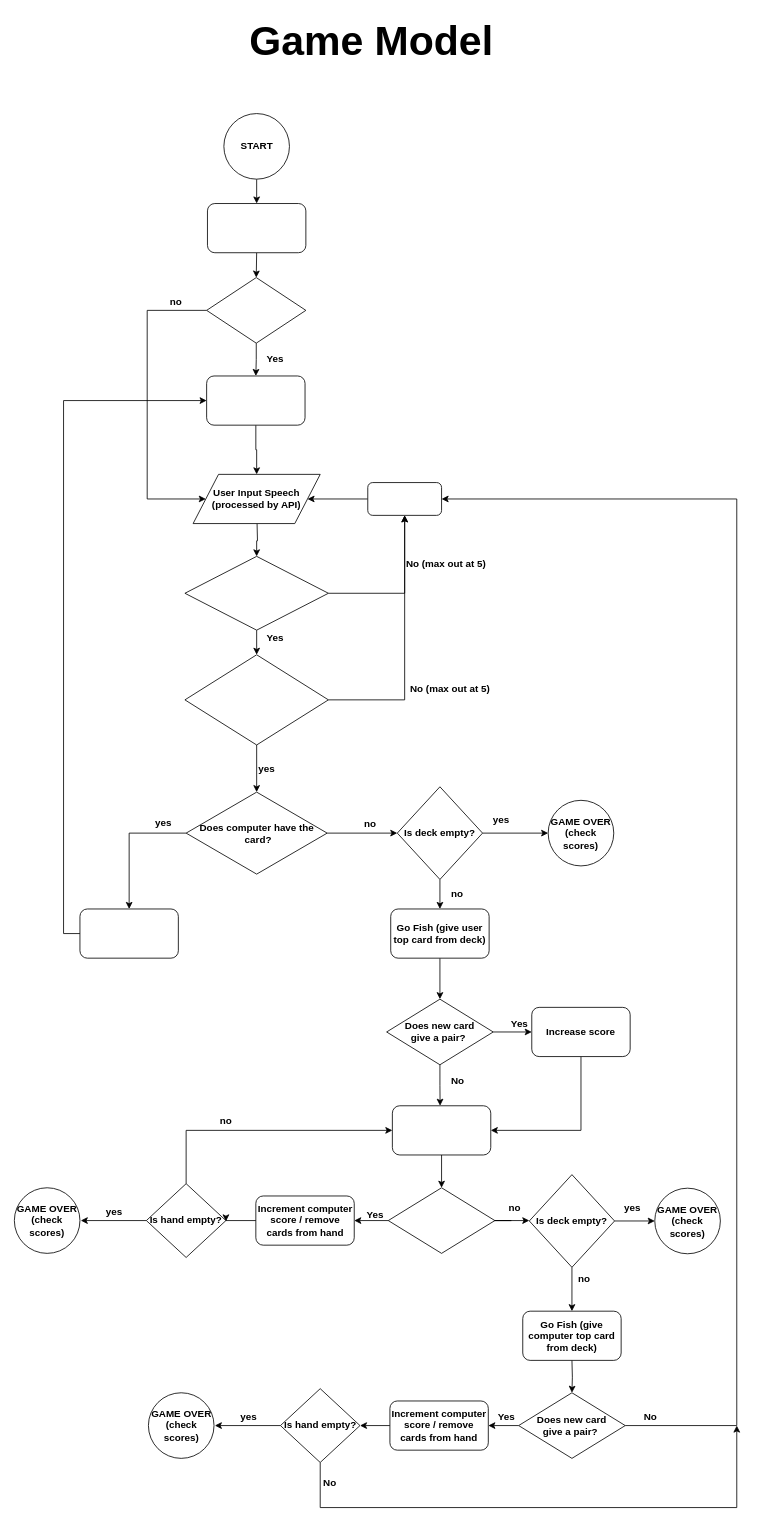
This 758x1528 diagram has some shape labels left out. Each missing label, with the centre of its shape:
"Computers turn begins by asking for card" belongs at (x=441, y=1130).
"Deal 7 random cards to each player" belongs at (x=256, y=228).
"Do players have pairs?" belongs at (x=256, y=310).
"Does user have card?" belongs at (x=441, y=1220).
"Get card from computer" belongs at (x=128, y=933).
"Increment score of respective players and remove pairs" belongs at (x=255, y=400).
"Is input comprehensible by API (has high accuracy)?" belongs at (x=256, y=593).
"Is input relevant/valid to the game? (i.e cannot ask for cards they don't have)" belongs at (x=256, y=699).
"Prompt user to speak again" belongs at (x=404, y=498).
